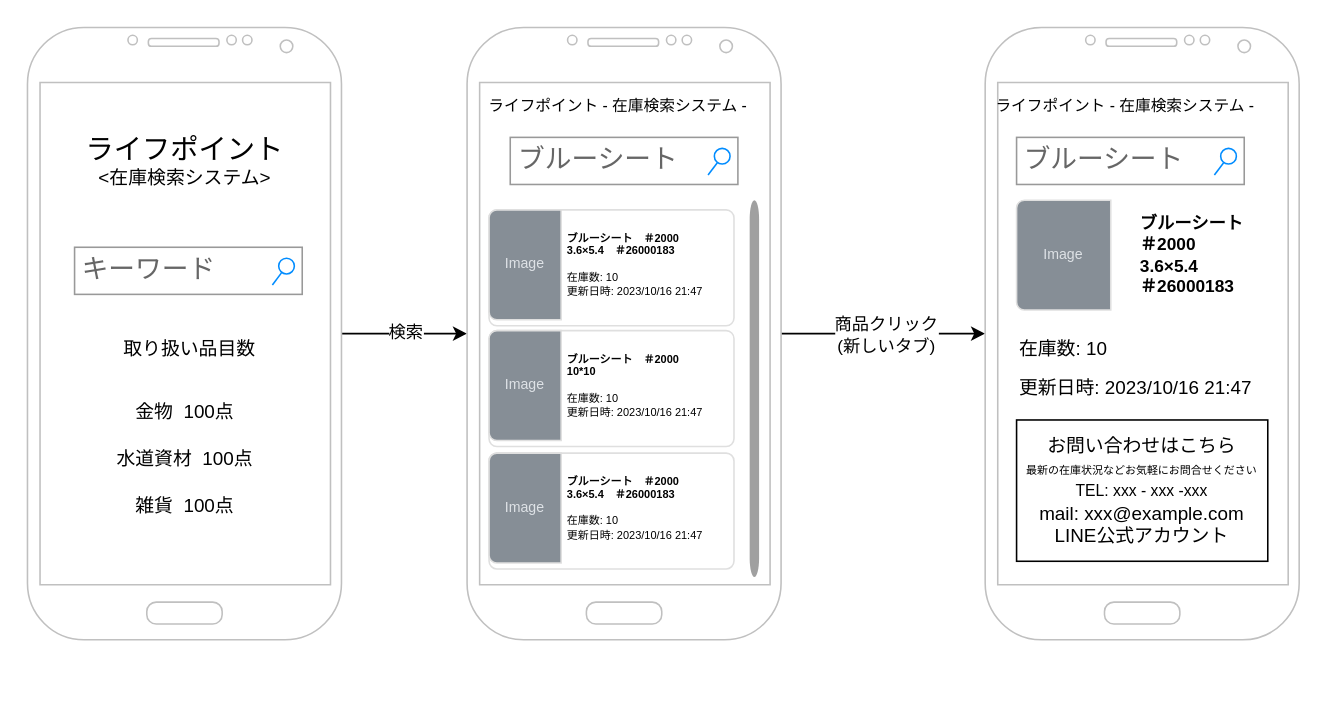
Image size: 1327x724. Some labels were removed from this diagram. Here are the shapes that lost their labels. From the top down, the box of each, then its label:
(26, 26, 341, 640): Top SSG
(466, 26, 781, 640): 検索結果 CSR
(984, 26, 1299, 640): 商品ページ詳細
